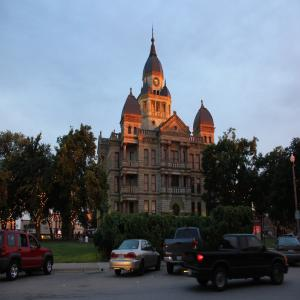Vehicle-registration-plate: (119, 256, 125, 261), (178, 257, 182, 262)
